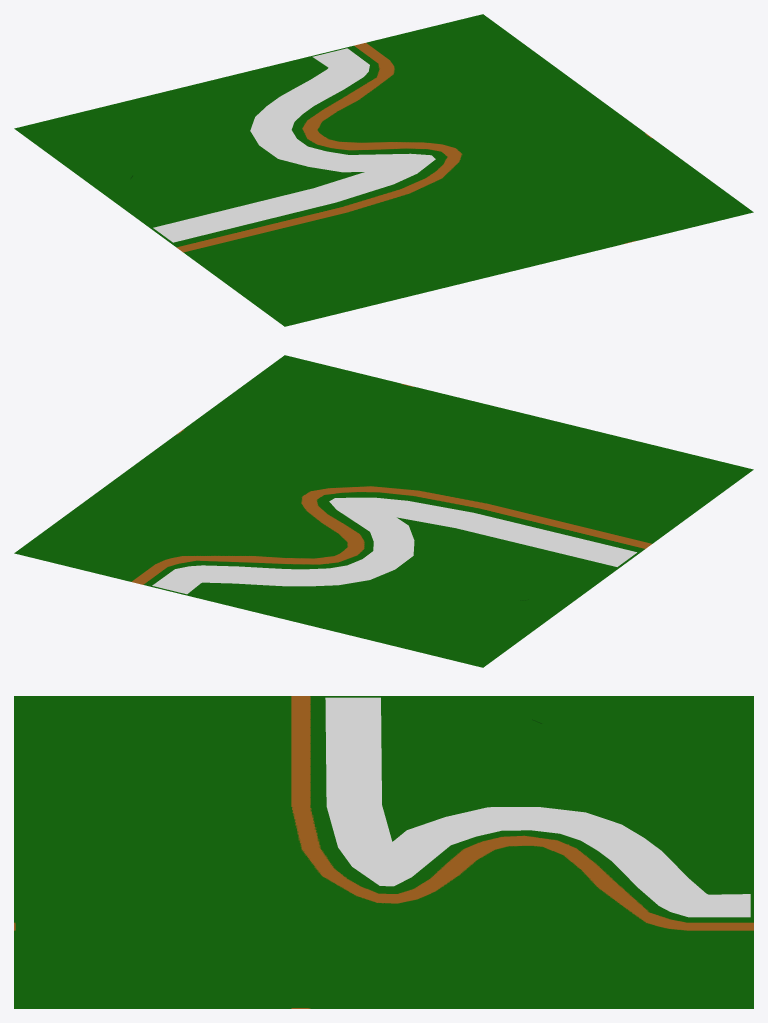
Rendered from test_level.glb.
3 renders of one model, top to bottom at view 1: azimuth 30°, elevation 25°; view 2: azimuth 150°, elevation 25°; view 3: azimuth 270°, elevation 25°, orthographic. The views are drawn at different scales.
Visible parts, largest first — view 1: Ground, LeftPlacement; view 2: Ground, LeftPlacement; view 3: Ground, LeftPlacement.
Boxes of the visible parts, <box> form: Ground: <box>14,14,753,326</box>; LeftPlacement: <box>153,48,435,242</box>; Ground: <box>14,355,753,667</box>; LeftPlacement: <box>152,497,636,594</box>; Ground: <box>14,696,753,1008</box>; LeftPlacement: <box>325,697,750,917</box>.
Bounding box in the file's own units: 40 × 0.01 × 40.
1 material, 1 textured.
